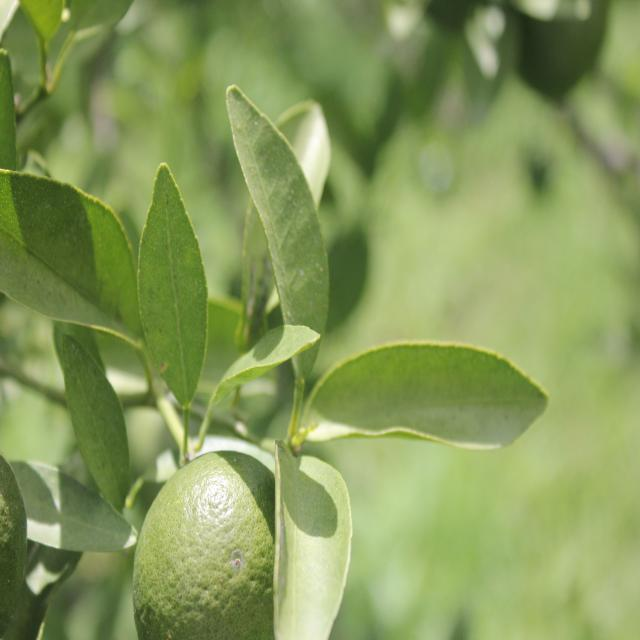blackspot: (0, 216, 127, 334), (141, 195, 205, 393)
